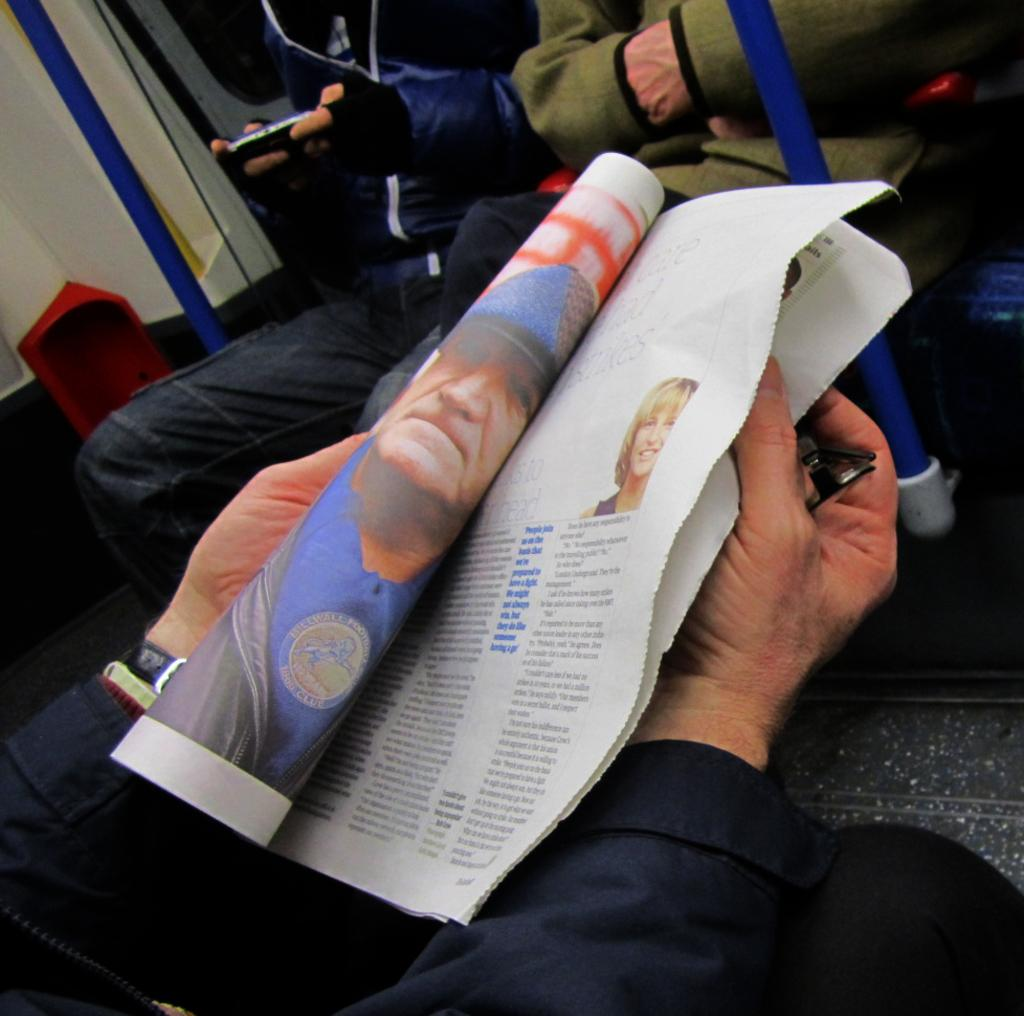Sem Máscara: (377, 327, 540, 516), (629, 413, 671, 478)
